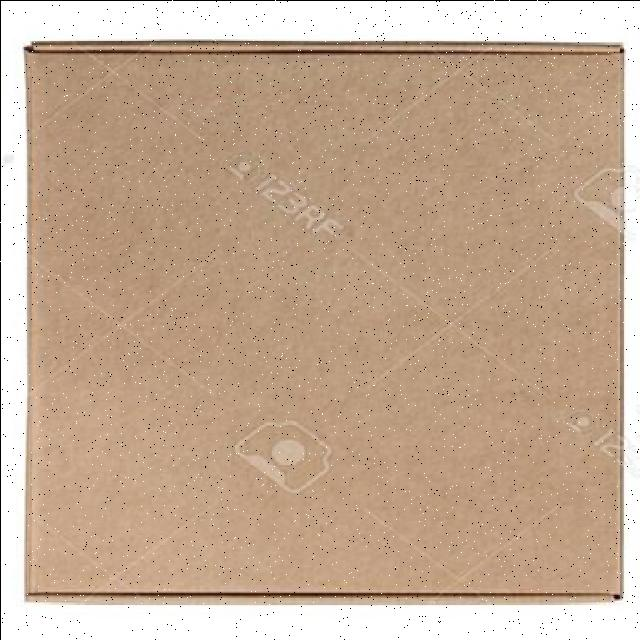normal: (14, 32, 635, 611)
